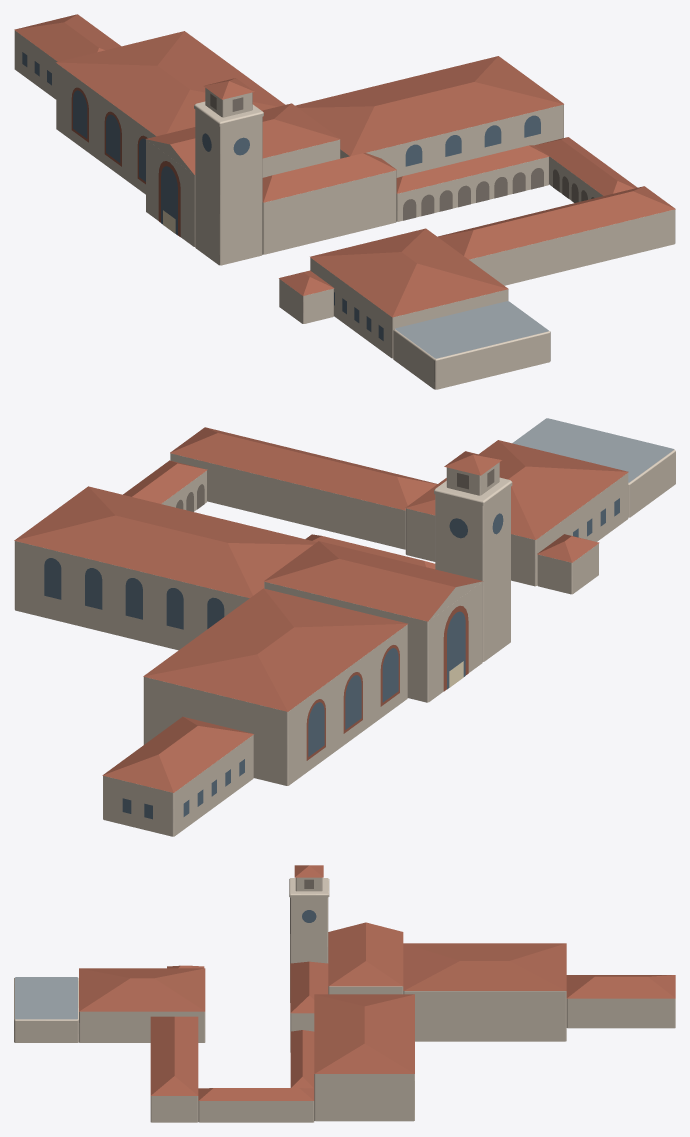
Rendered from la-union-station.glb.
3 renders of one model, top to bottom at view 1: azimuth 30°, elevation 25°; view 2: azimuth 150°, elevation 25°; view 3: azimuth 270°, elevation 25°, orthographic. The views are drawn at different scales.
Parts seen in each view (by area): view 1: Los Angeles Union Station; view 2: Los Angeles Union Station; view 3: Los Angeles Union Station.
Boxes of the visible parts, left/top/right/bottom form: Los Angeles Union Station: left=14, top=14, right=675, bottom=389; Los Angeles Union Station: left=14, top=418, right=675, bottom=836; Los Angeles Union Station: left=14, top=865, right=675, bottom=1122.
Size of the model in its own units: 87.8 by 39.1 by 181.
